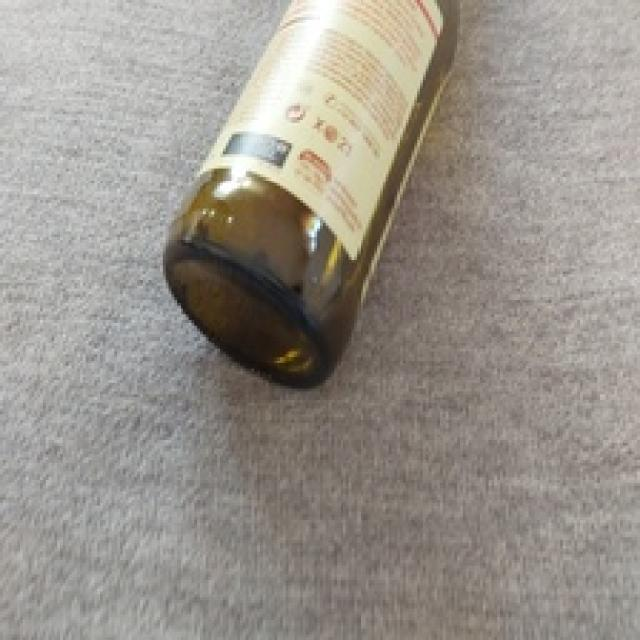Glass: (162, 0, 459, 384)
